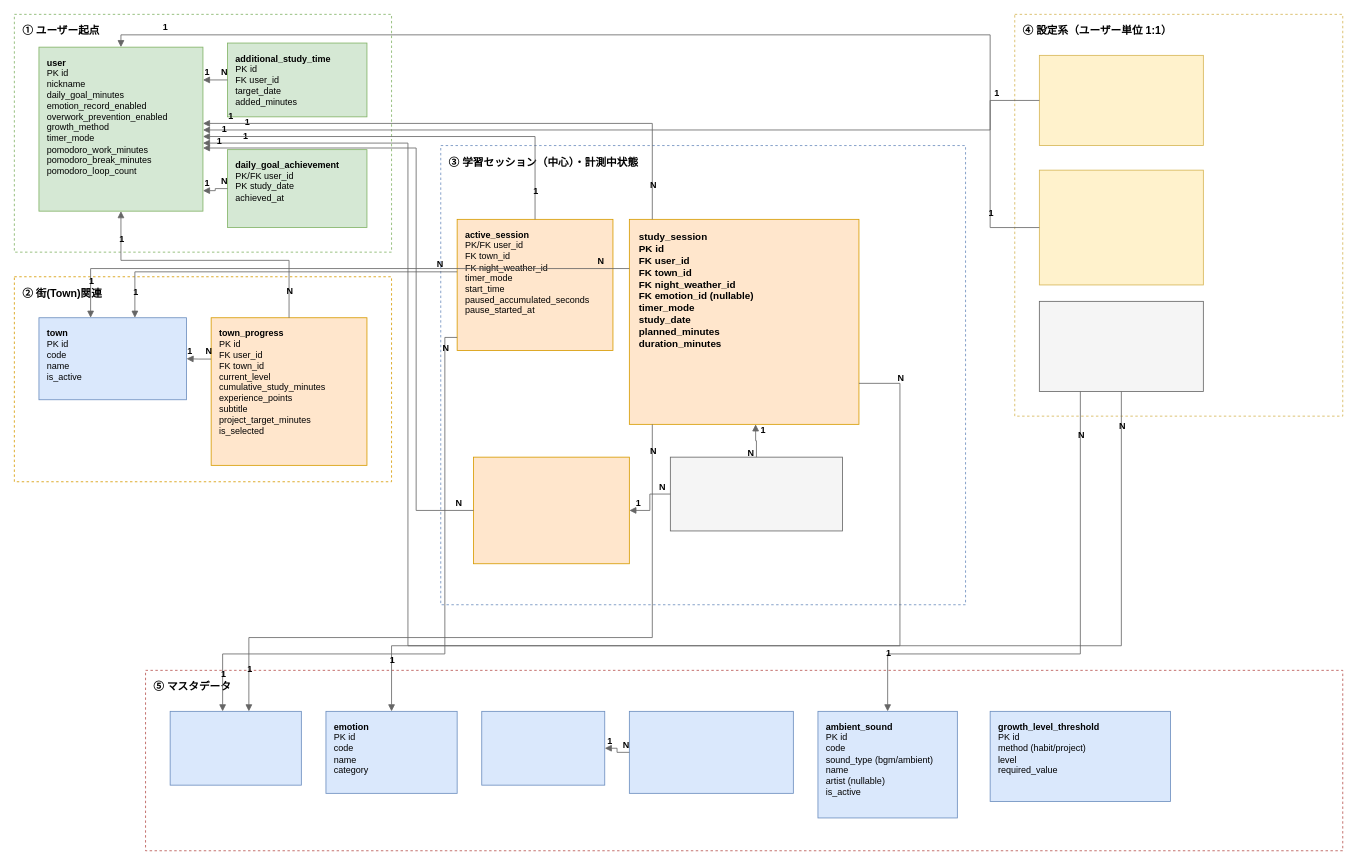
Image size: 1357x865. Some labels were removed from this diagram. The centre of each missing label's shape, as x and y in pixels:
audio_setting PK/FK user_id bgm_volume ambient_volume sfx_volume bell_volume: point (1121, 227)
night_weather PK id code name: point (235, 748)
notification_setting PK/FK user_id is_enabled scheduled_time: point (1121, 100)
npc PK id name is_active: point (543, 748)
npc_message PK id FK npc_id trigger_type message: point (711, 752)
session_tag PK/FK study_session_id PK/FK study_tag_id: point (756, 493)
study_tag PK id FK user_id (nullable) name is_custom is_active: point (551, 510)
user_sound_preference PK/FK user_id PK/FK ambient_sound_id is_enabled: point (1121, 346)
